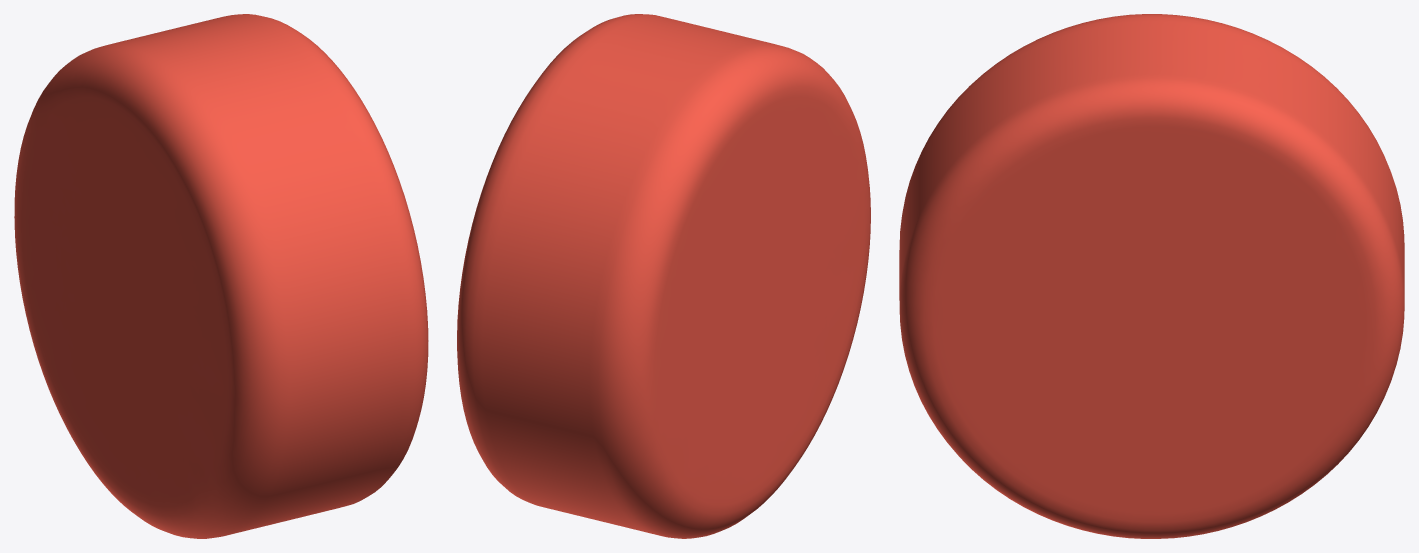
File: Round_Pill_Individual_Red.glb
3 renders of one model, left to right at view 1: azimuth 30°, elevation 25°; view 2: azimuth 150°, elevation 25°; view 3: azimuth 270°, elevation 25°, orthographic.
Visible parts, largest first — view 1: Round_Pill.014; view 2: Round_Pill.014; view 3: Round_Pill.014.
Part boxes in pixels (left/top/right/bottom): Round_Pill.014: left=14, top=14, right=428, bottom=538; Round_Pill.014: left=457, top=14, right=870, bottom=538; Round_Pill.014: left=899, top=14, right=1404, bottom=538.
Bounding box in the file's own units: 0.5814 × 1.35 × 1.35.
1 material, 1 textured.
